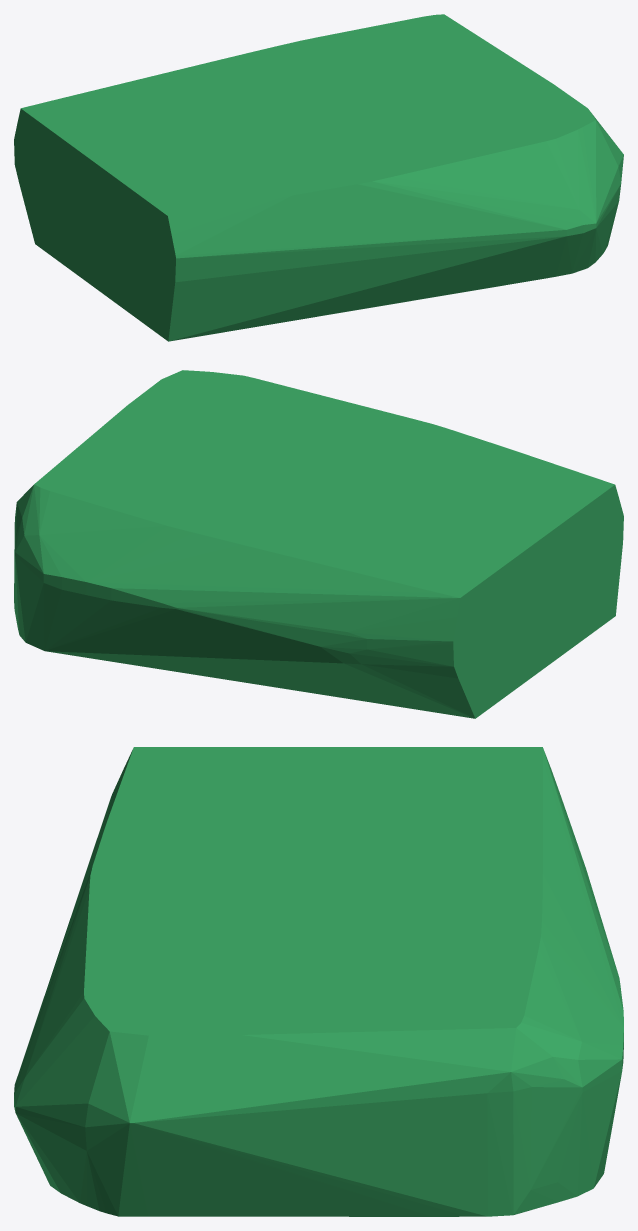
The picture shows the model from 3 angles, top to bottom: view 1: azimuth 30°, elevation 25°; view 2: azimuth 150°, elevation 25°; view 3: azimuth 270°, elevation 25°; orthographic projection. The views are drawn at different scales.
Bounding box in the file's own units: 0.0581 × 0.0153 × 0.0486.
